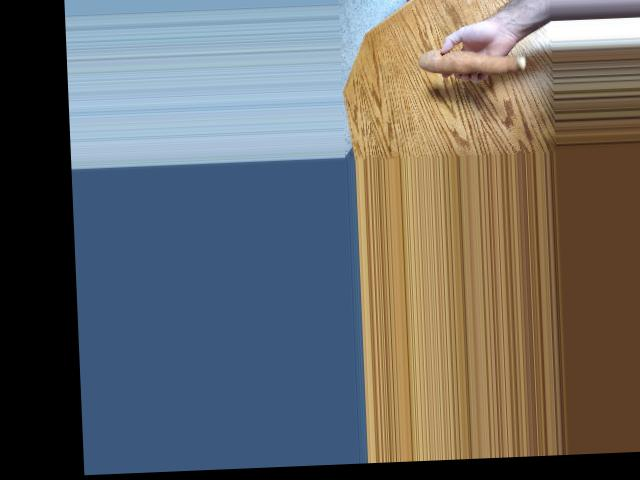sweet_potato: (418, 52, 518, 83)
